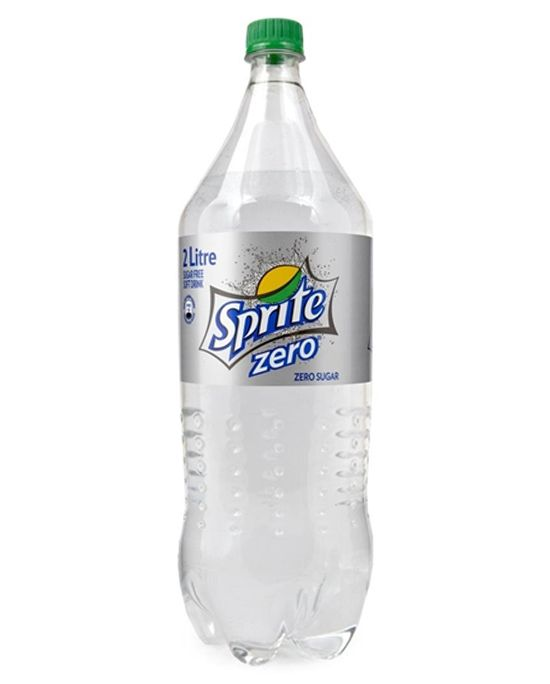Sprite: (146, 23, 405, 662)
